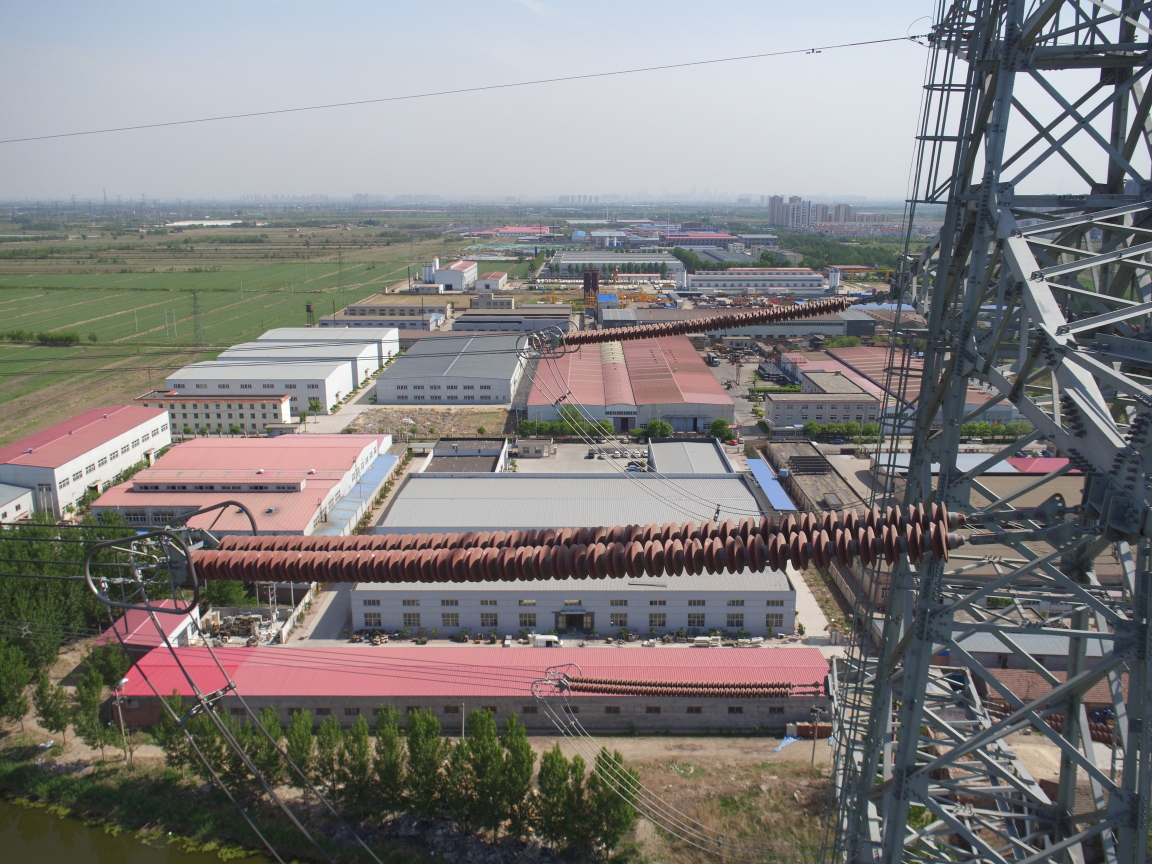insulator: (173, 498, 1036, 589), (554, 291, 867, 345)
